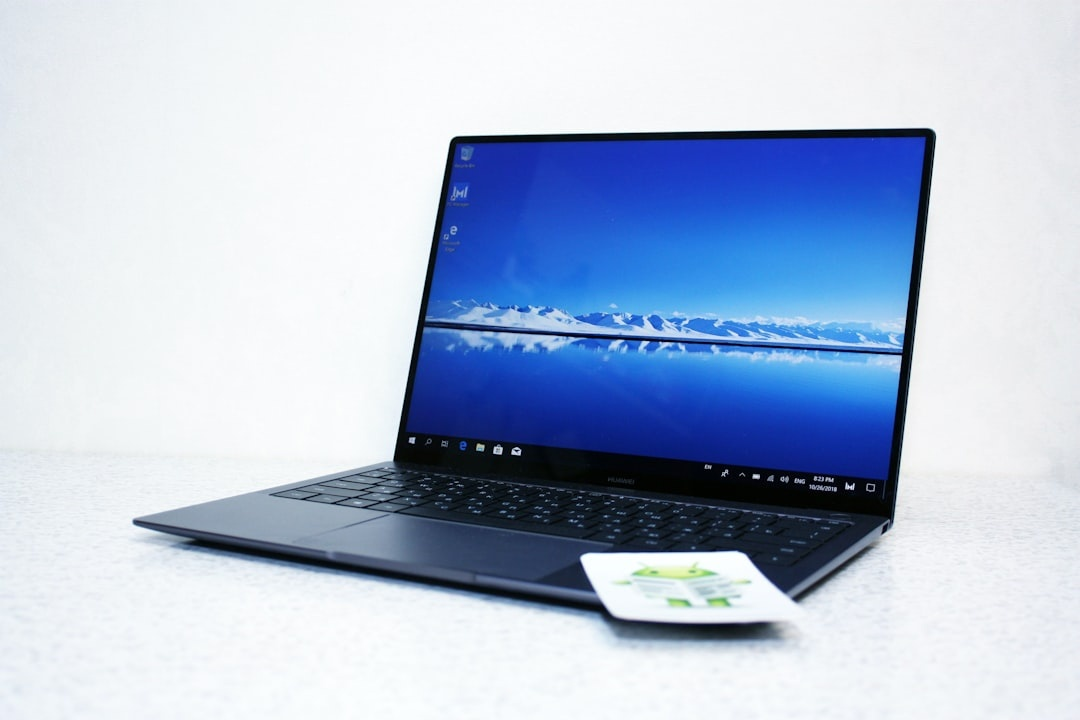laptop: (105, 55, 989, 655)
